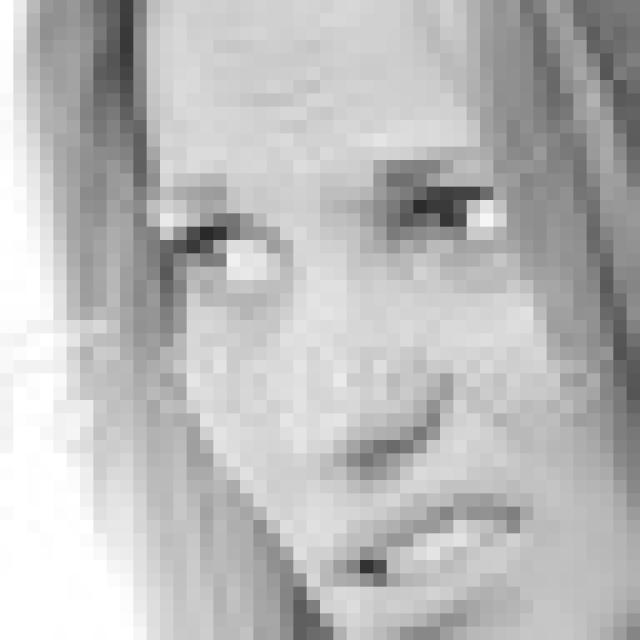disgust: (172, 145, 544, 640)
